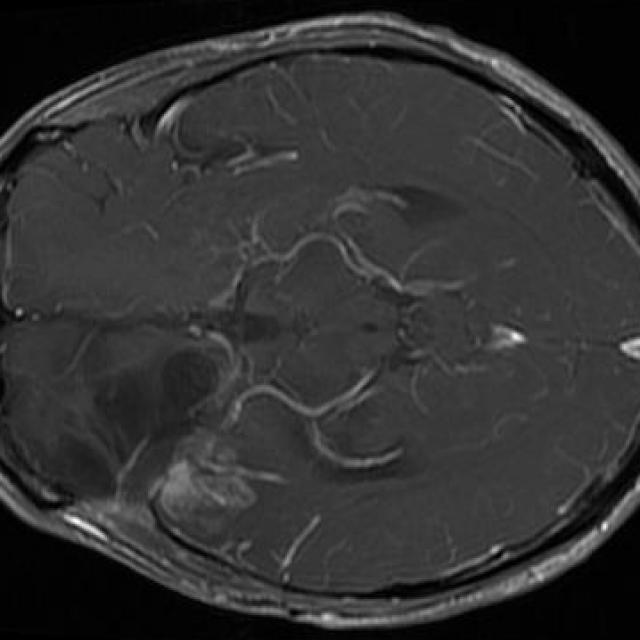glioma: (7, 326, 257, 508)
